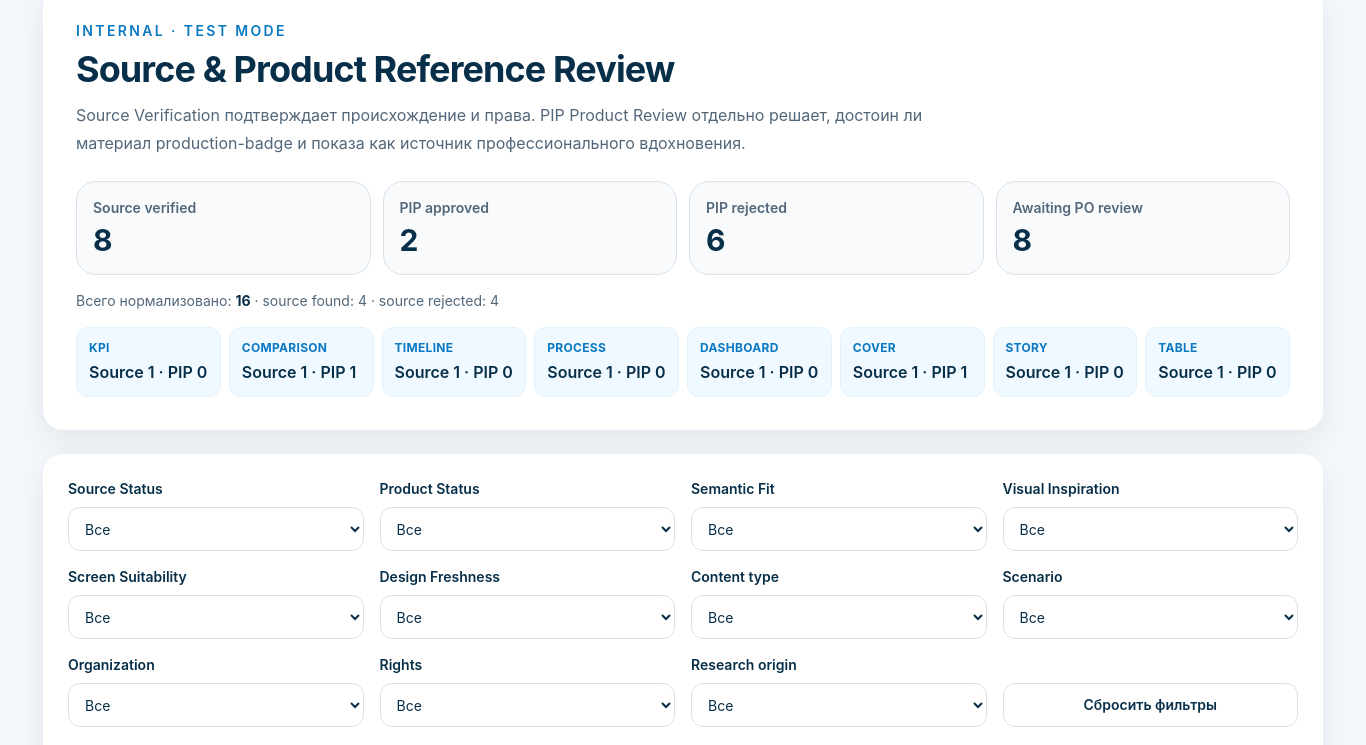
Scenario: Source and Product Reference Review UI › shows separate coverage and filters both review dimensions
The width and height of the screenshot is (1366, 745).
Expected: the heading "Source & Product Reference Review" is shown, [76,47,674,91]
Expected: the text "2" is shown, [400,222,418,258]
Select "source_verified" in the dropdown labelled "Source Status" at (216, 529), box [68,507,364,551]
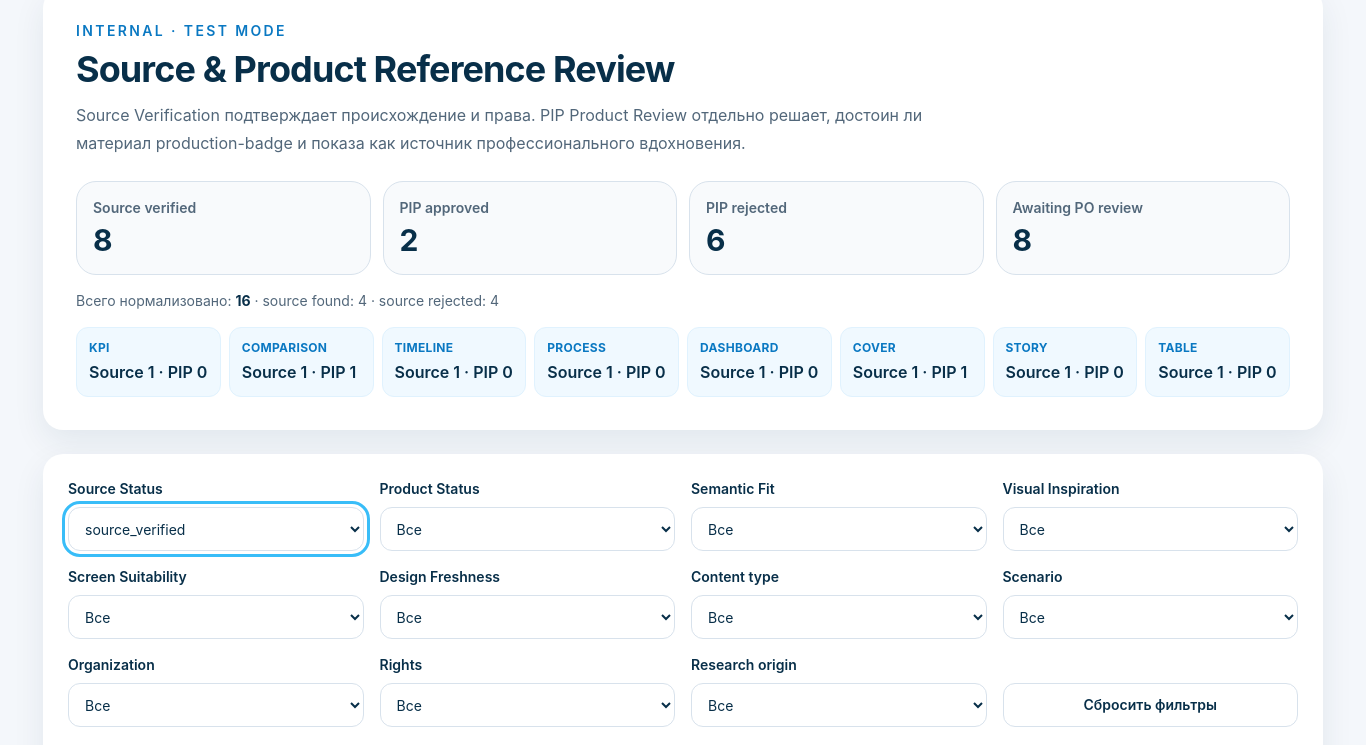
Select "pip_approved" in the dropdown labelled "Product Status" at (527, 529), box [380,507,675,551]
(page scrolled)
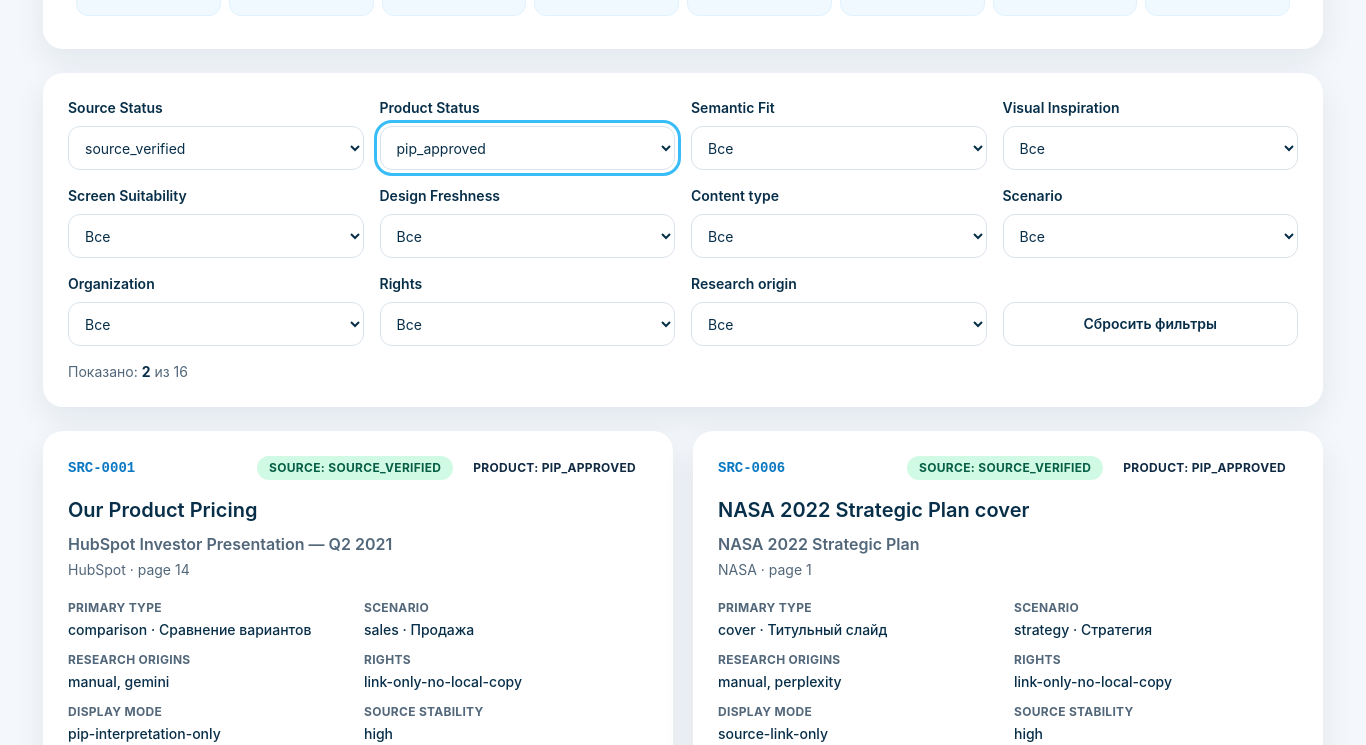
Result: the text "Показано: 2 из 16" is shown at [68,363,188,380]
Result: the text "Product: pip_approved" is shown 2 times at [461,456,648,480]; [1111,456,1298,480]
